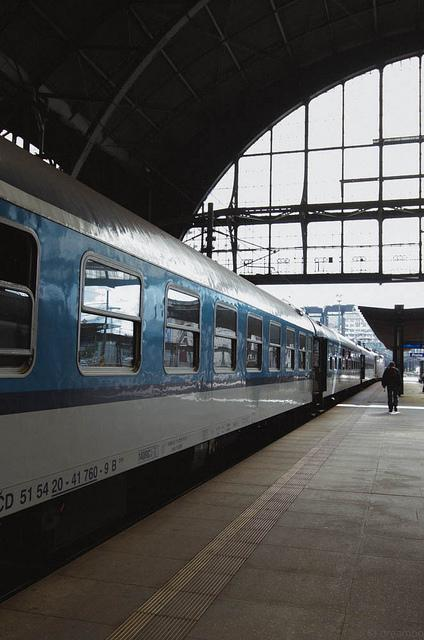Train: (2, 140, 388, 592)
